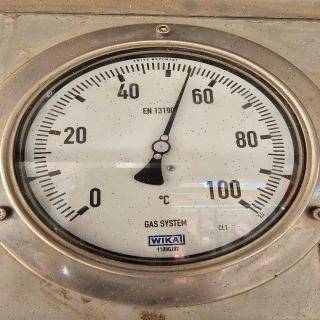gauge: (3, 40, 320, 275), (68, 192, 101, 222), (226, 185, 256, 213), (152, 138, 170, 154), (185, 63, 195, 75)
